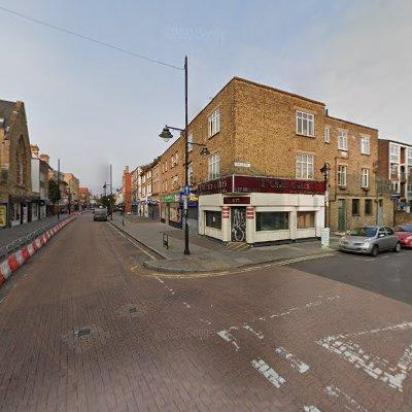stationary-car-onstreet: (338, 225, 402, 257), (390, 222, 412, 252), (94, 209, 106, 221)
